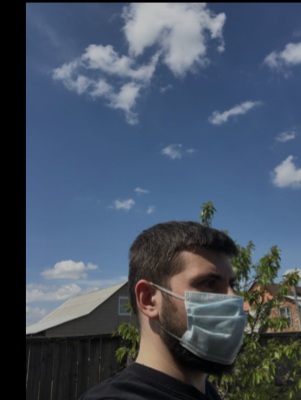with_mask: (177, 264, 245, 369)
